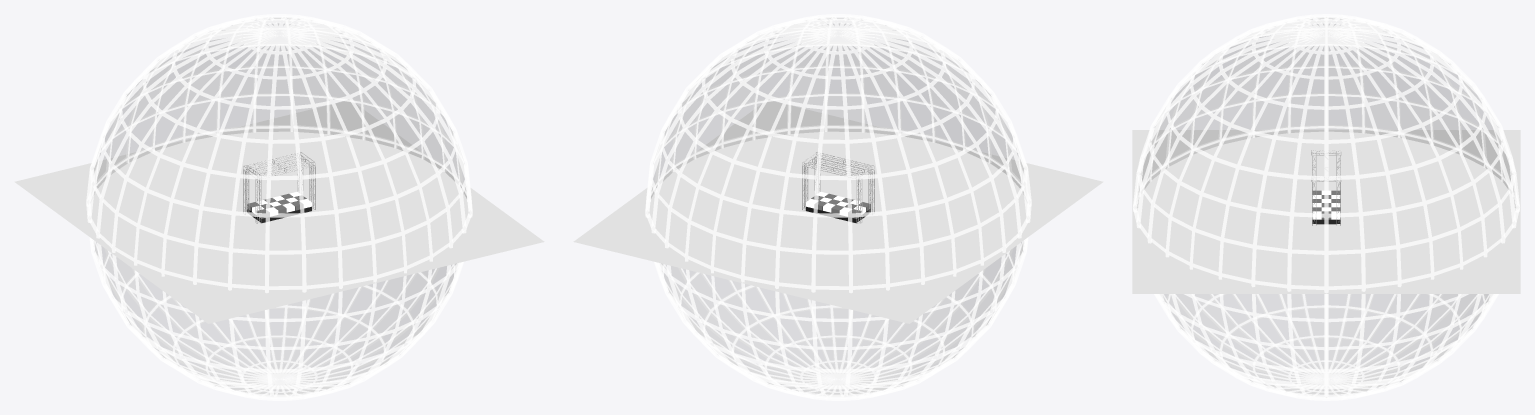
Rendered from stage-asiba4_mono.glb.
3 views of the same model, side by side, from view 1: azimuth 30°, elevation 25°; view 2: azimuth 150°, elevation 25°; view 3: azimuth 270°, elevation 25° (orthographic).
Visible parts, largest first — view 1: Plane, Wireframe_Sphere, 反転スフィア; view 2: Plane, Wireframe_Sphere, 反転スフィア; view 3: Plane, Wireframe_Sphere, 反転スフィア.
Boxes of the visible parts, x1,y1,x2,y2 form: Plane: [14, 100, 544, 323]; Wireframe_Sphere: [86, 14, 472, 400]; 反転スフィア: [94, 18, 466, 394]; Plane: [573, 100, 1103, 323]; Wireframe_Sphere: [645, 14, 1031, 400]; 反転スフィア: [651, 18, 1023, 394]; Plane: [1132, 130, 1520, 293]; Wireframe_Sphere: [1133, 14, 1519, 400]; 反転スフィア: [1139, 18, 1513, 394].
Size of the model in its own units: 40 by 39.91 by 40.
7 materials, 1 textured.
